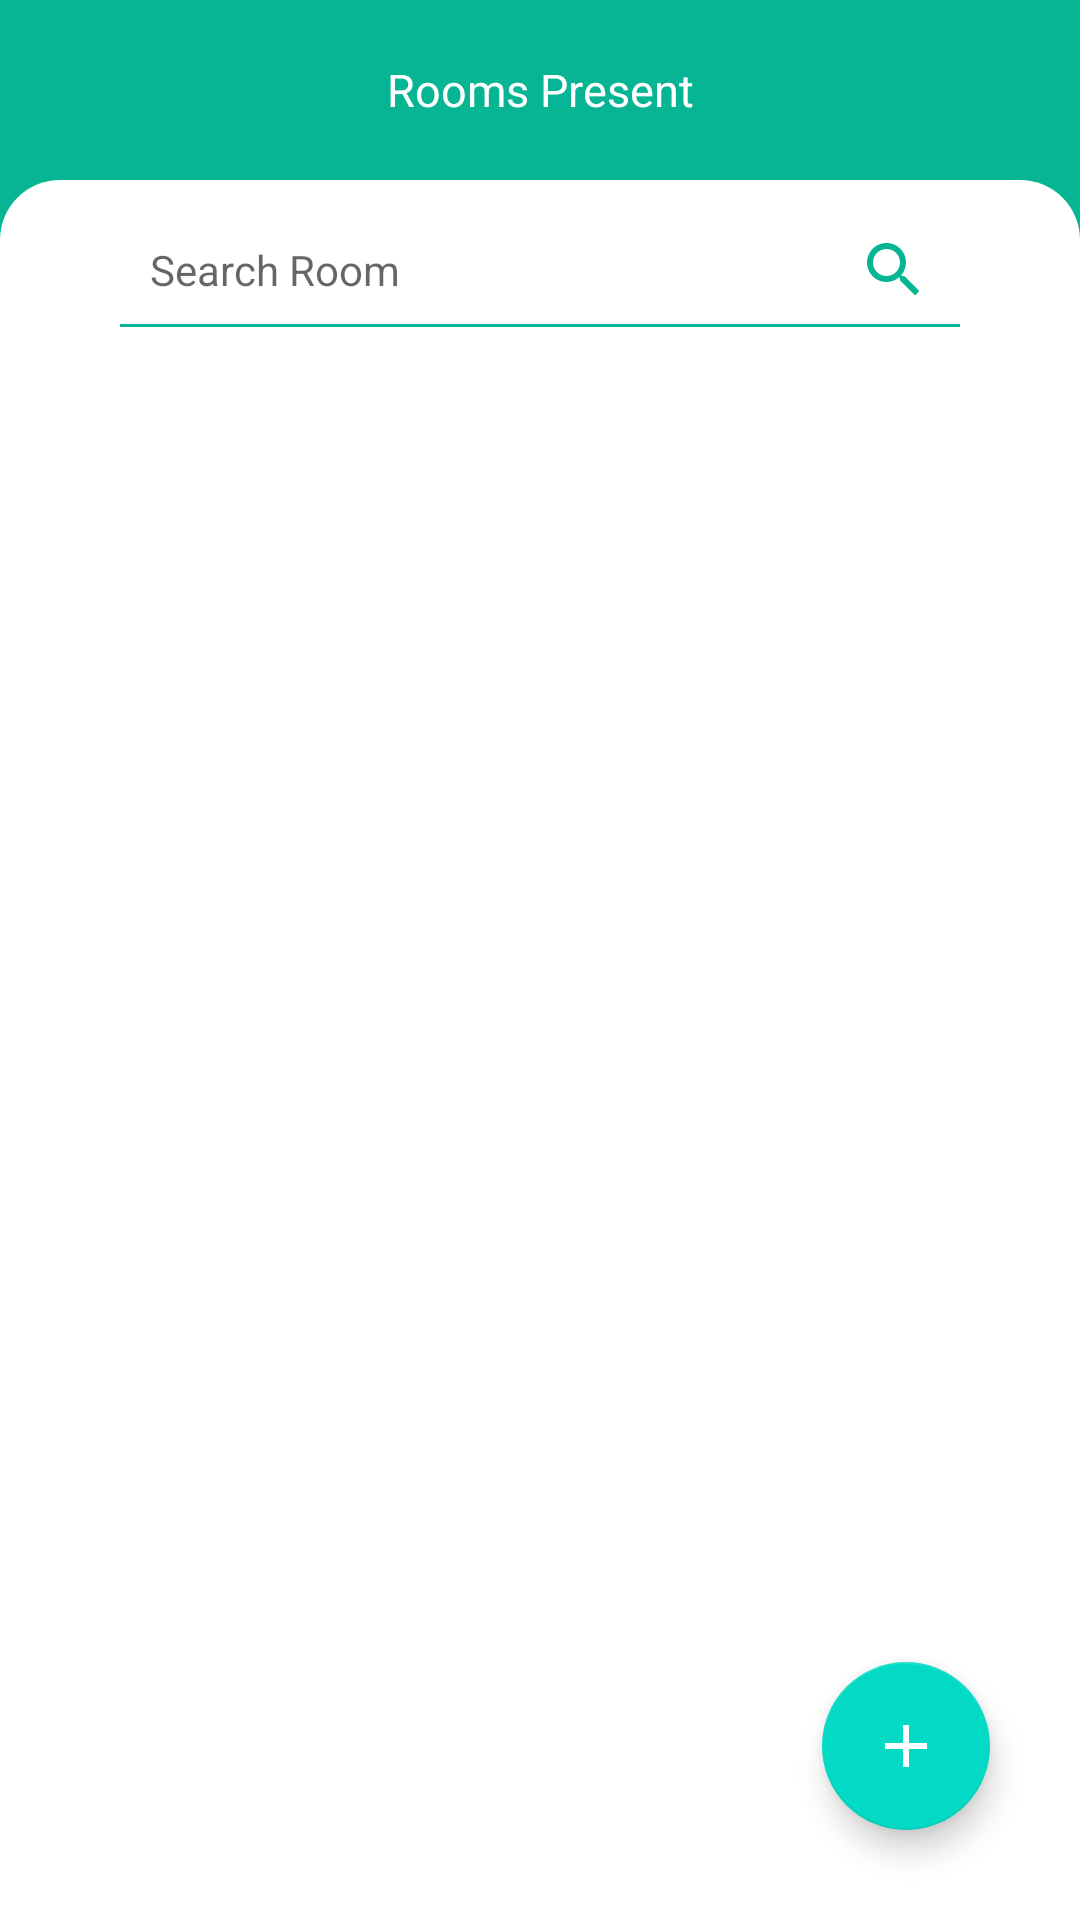

Icons on this 1080 x 1920 Android screen, each with the point to tap as point (x, y):
add: point (906, 1746)
